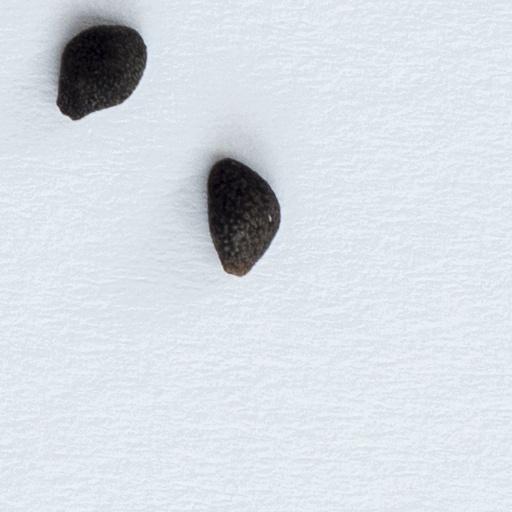Convolvulus-poly: (204, 157, 281, 279), (56, 25, 148, 120)
